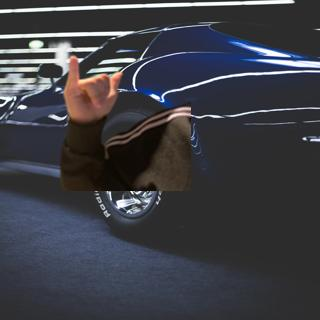HAVE: (57, 50, 127, 125)
